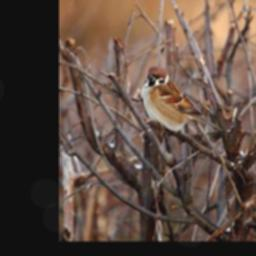Sparrow: (137, 65, 225, 137)
